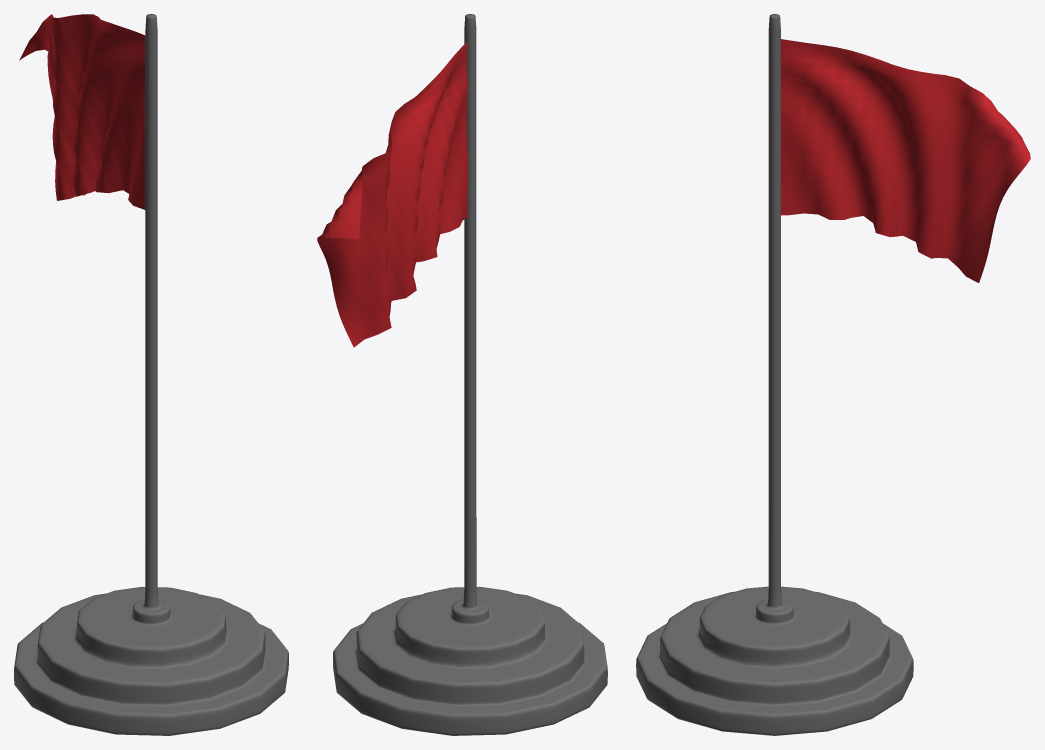
The model's file is flag-pole.glb.
The picture shows the model from 3 angles, left to right: view 1: azimuth 30°, elevation 25°; view 2: azimuth 150°, elevation 25°; view 3: azimuth 270°, elevation 25°; orthographic projection.
Visible parts, largest first — view 1: Flag_Pole, Object_7; view 2: Flag_Pole, Object_7; view 3: Flag_Pole, Object_7.
Part boxes in pixels (x1,y1,x2,y2): Flag_Pole: [14, 14, 288, 735]; Object_7: [19, 14, 145, 209]; Flag_Pole: [333, 14, 607, 735]; Object_7: [317, 41, 468, 347]; Flag_Pole: [636, 14, 913, 735]; Object_7: [780, 39, 1030, 282].
Bounding box in the file's own units: 2.27 × 6 × 3.24.
